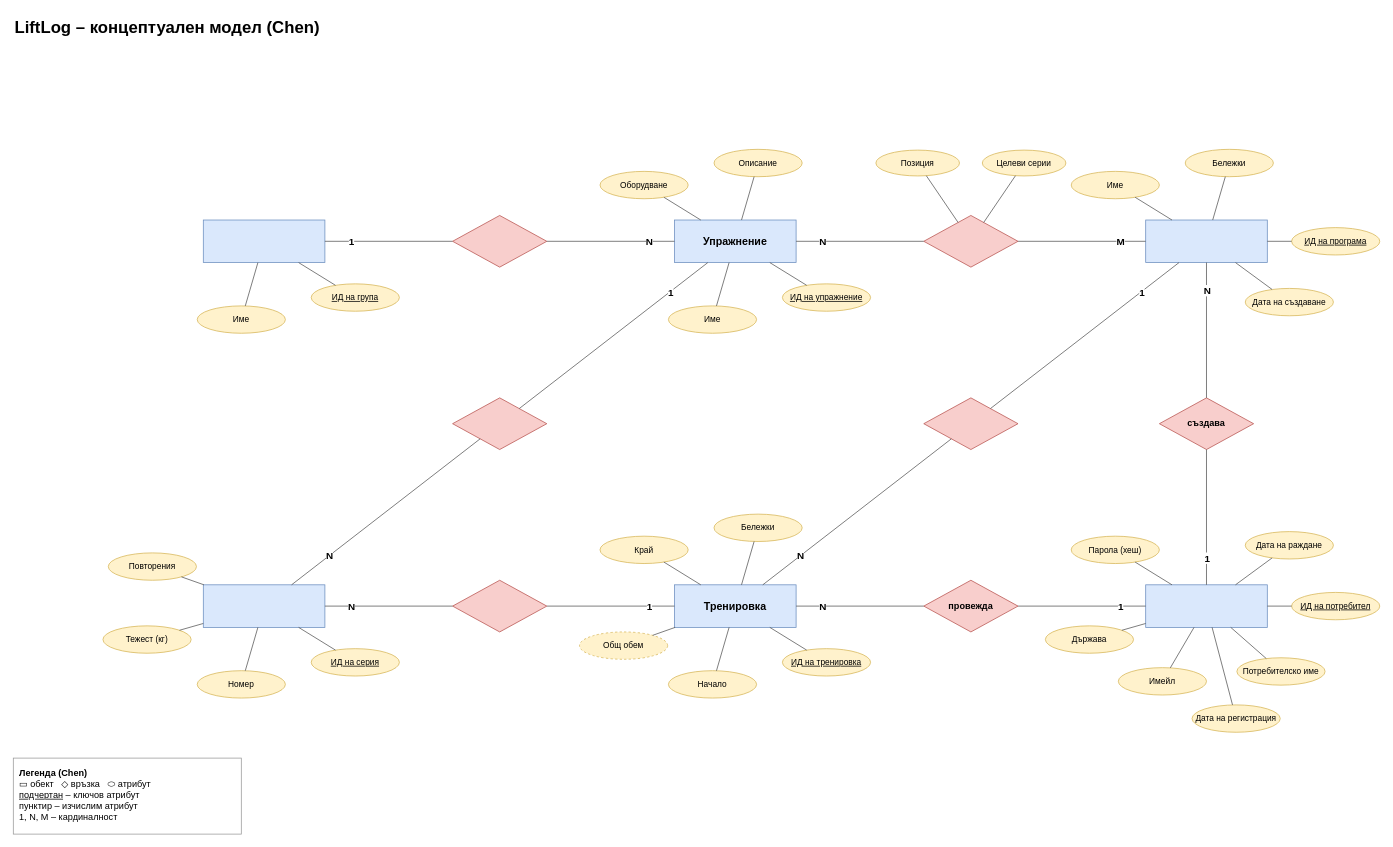
This 1393x847 diagram has some shape labels left out. The shapes that lost their labels are listed below. From the top down, each one's box as (x1, y1, x2, y2) in pixels, then its label:
(203, 219, 325, 263): Мускулна група
(452, 215, 547, 267): натоварва
(923, 215, 1018, 267): включва
(1145, 219, 1267, 263): Програма
(452, 397, 547, 450): изпълнява се в
(923, 397, 1018, 450): основа за
(203, 584, 325, 627): Серия
(452, 580, 547, 632): съдържа
(1145, 584, 1267, 627): Потребител
